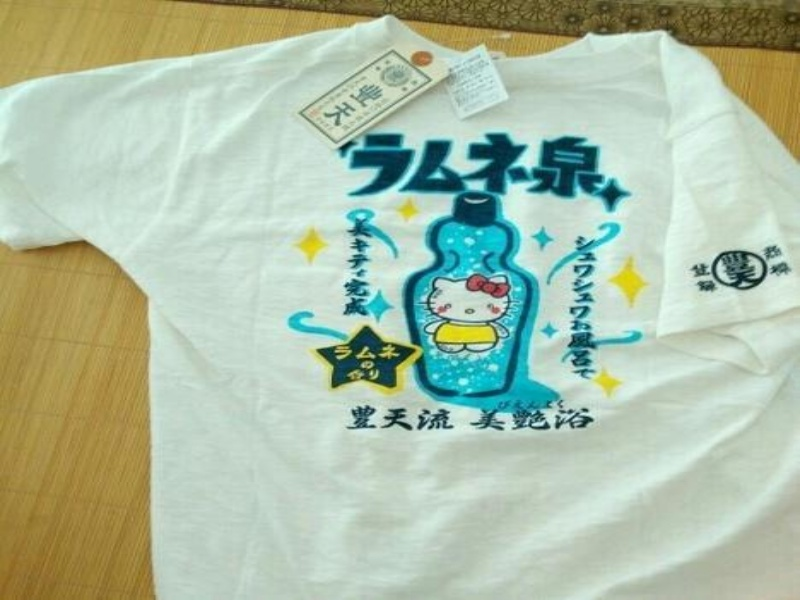short_sleeved_shirt: (0, 8, 798, 599)
